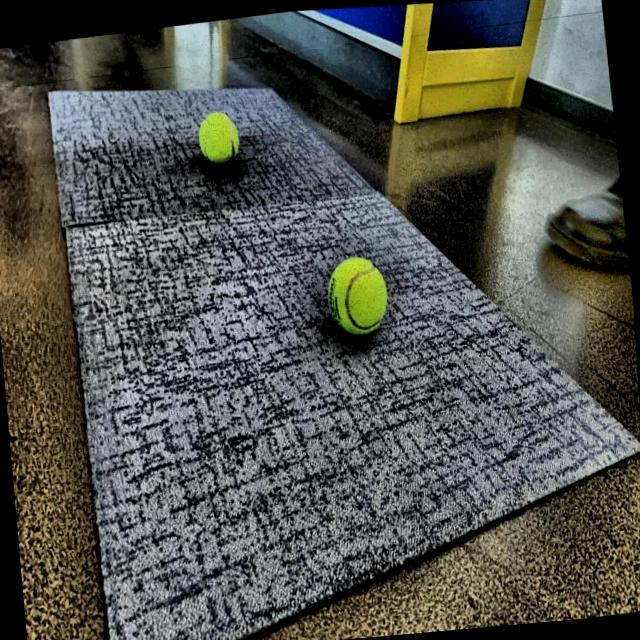Tennis Ball: (316, 243, 402, 350), (191, 103, 246, 174)
